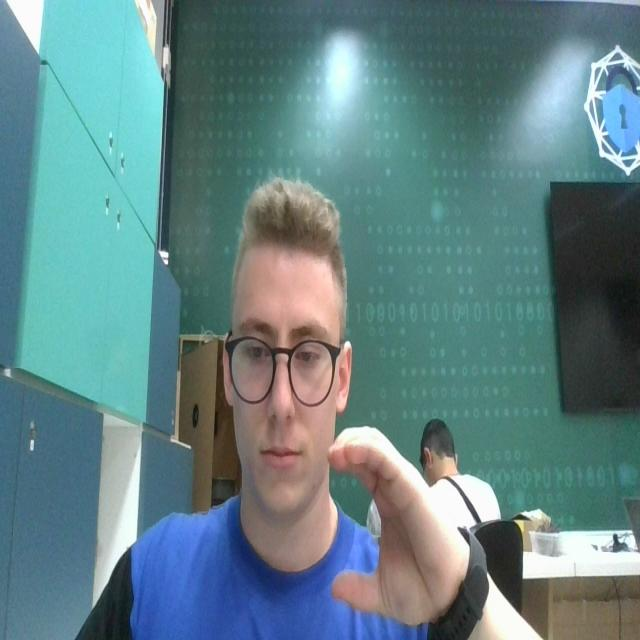C: (325, 421, 457, 626)
